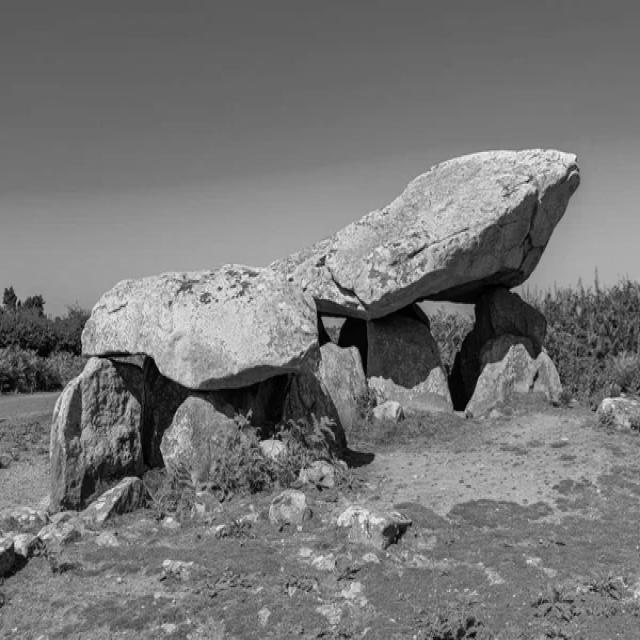Stone: (272, 149, 580, 319), (81, 266, 319, 390), (50, 358, 143, 512), (467, 292, 568, 417), (294, 343, 376, 448), (368, 314, 453, 412), (160, 397, 231, 487)
